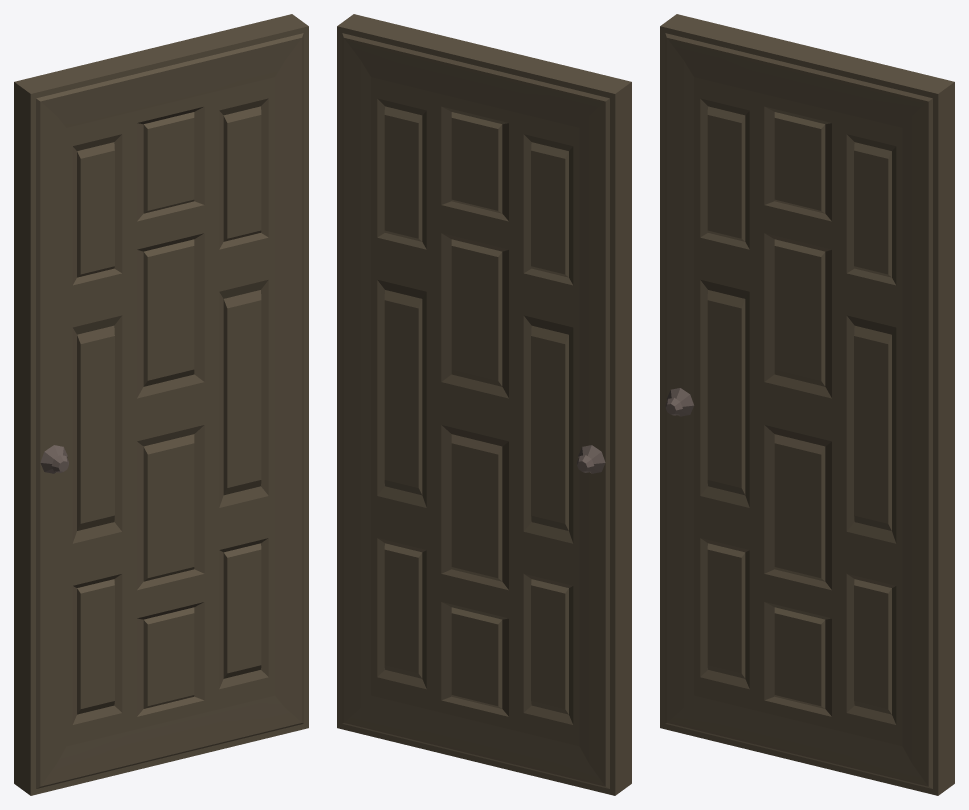
The model's file is door_5.glb.
3 renders of one model, left to right at view 1: azimuth 30°, elevation 25°; view 2: azimuth 150°, elevation 25°; view 3: azimuth 330°, elevation 25°, orthographic.
Parts seen in each view (by area): view 1: Door_5; view 2: Door_5; view 3: Door_5.
Boxes of the visible parts, left/top/right/bottom form: Door_5: left=14, top=14, right=308, bottom=795; Door_5: left=337, top=14, right=631, bottom=795; Door_5: left=660, top=14, right=954, bottom=795.
Bounding box in the file's own units: 1.74 × 4.2 × 0.4211.
